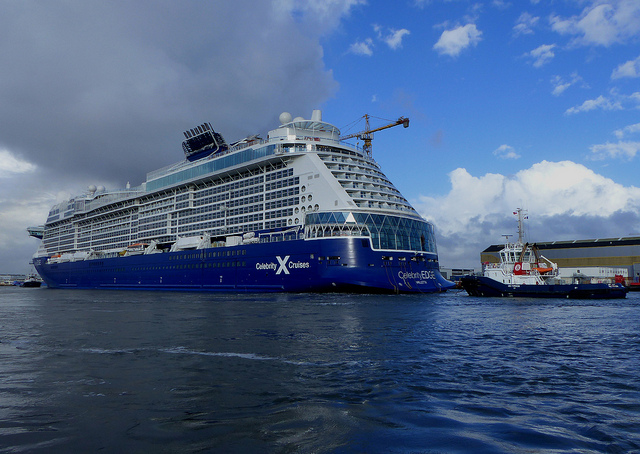cruise_ship: (29, 110, 450, 294)
tug_boat: (463, 208, 628, 300), (18, 262, 38, 289)
